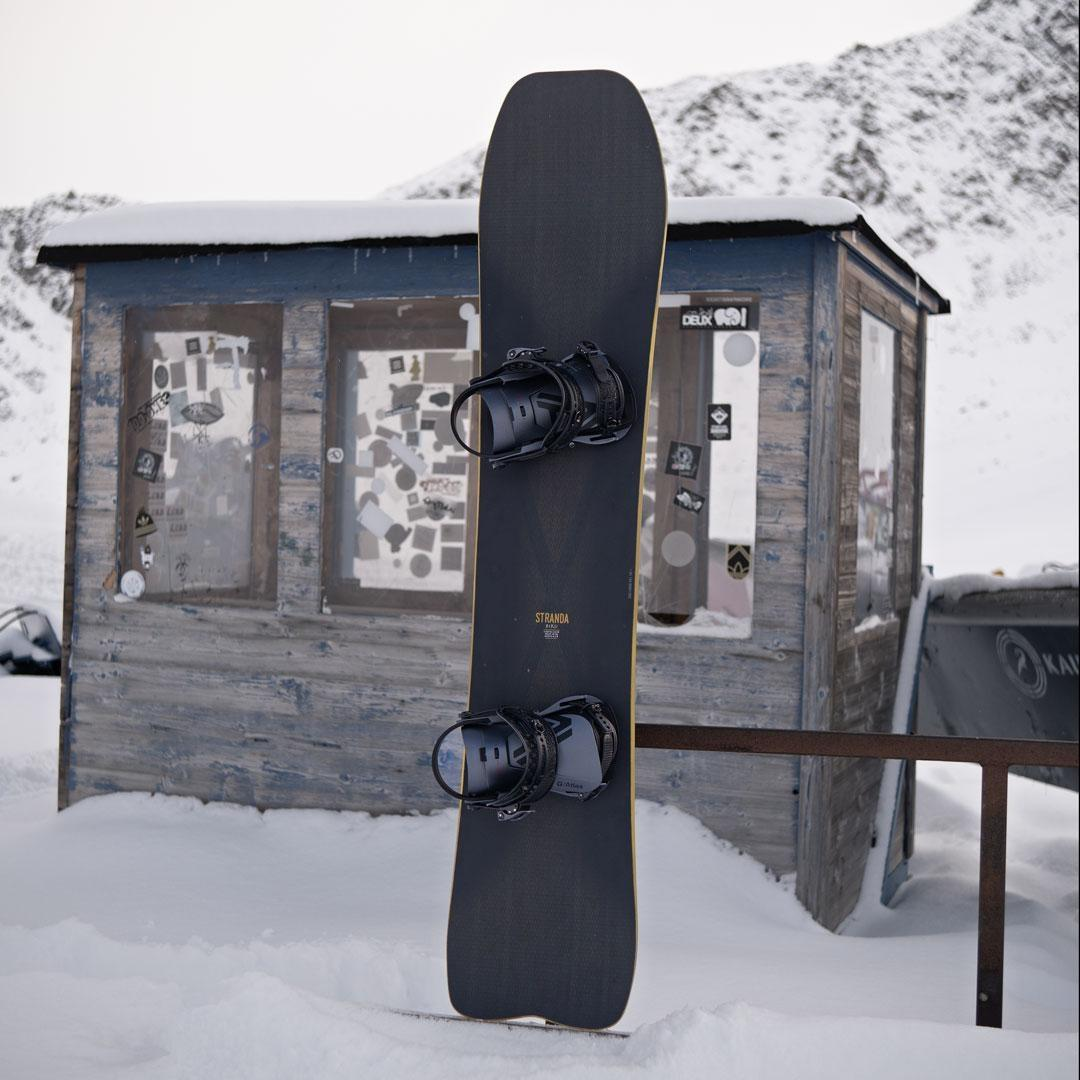Snowboard: (433, 66, 670, 1028)
